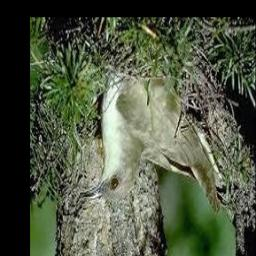Cuckoo: (79, 73, 219, 214)
